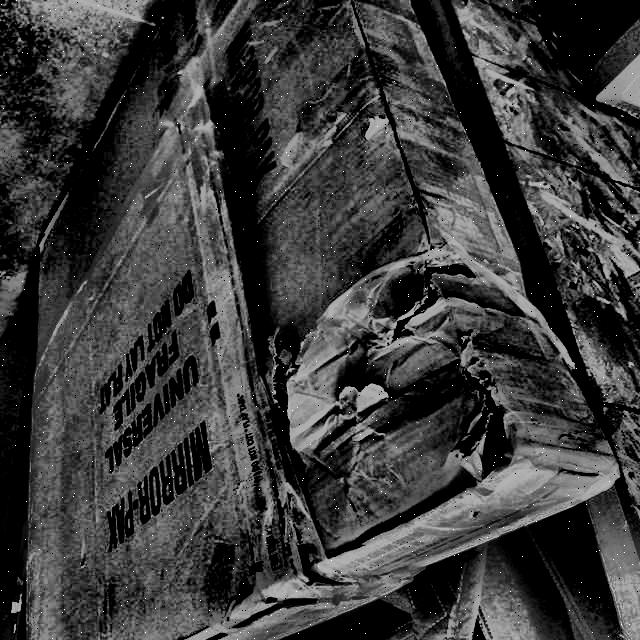box: (26, 1, 622, 640)
hole: (375, 258, 487, 340), (456, 359, 516, 481)
